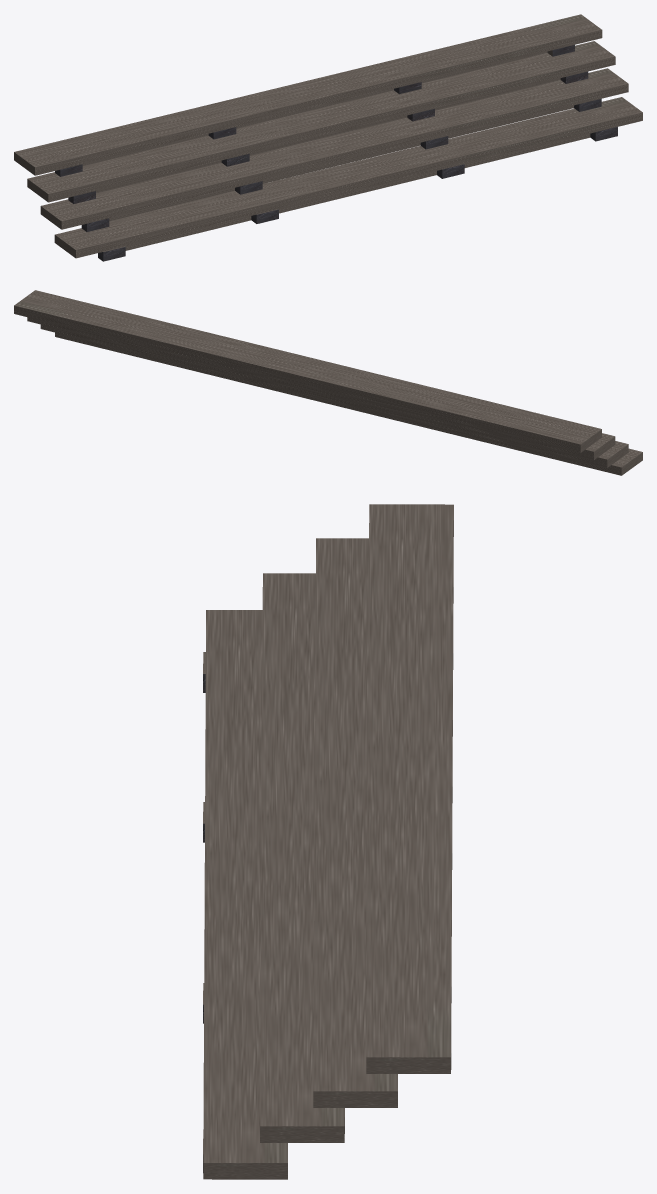
Rendered from Gradas.fbx.
3 renders of one model, top to bottom at view 1: azimuth 30°, elevation 25°; view 2: azimuth 150°, elevation 25°; view 3: azimuth 270°, elevation 25°, orthographic. The views are drawn at different scales.
Visible parts, largest first — view 1: Cube.020; view 2: Cube.020; view 3: Cube.020.
Boxes of the visible parts, x1,y1,x2,y2 form: Cube.020: (14,14,642,261); Cube.020: (14,290,642,475); Cube.020: (203,504,453,1179).
Bounding box in the file's own units: 2800 × 332 × 537.
